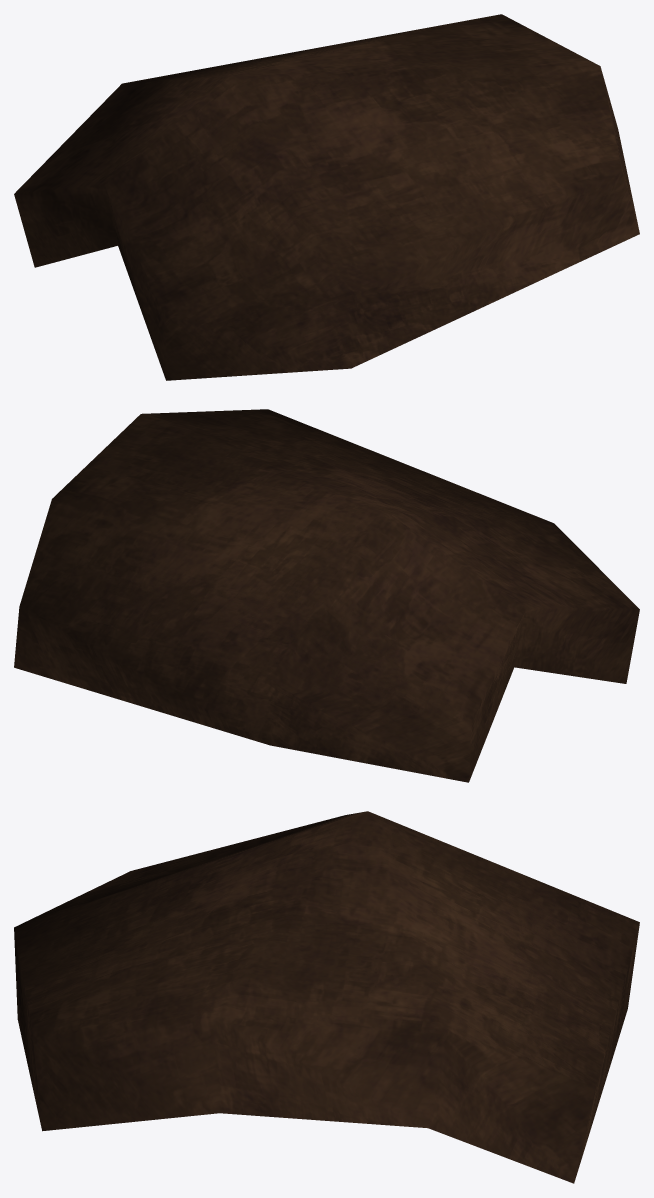
Rendered from Chr_HandLeft_Female_16_Drop.fbx.
3 views of the same model, one above another, from view 1: azimuth 30°, elevation 25°; view 2: azimuth 150°, elevation 25°; view 3: azimuth 270°, elevation 25° (orthographic). The views are drawn at different scales.
Parts seen in each view (by area): view 1: Chr_HandLeft_Female_16; view 2: Chr_HandLeft_Female_16; view 3: Chr_HandLeft_Female_16.
Part boxes in pixels (x1,y1,x2,y2): Chr_HandLeft_Female_16: [14, 14, 639, 380]; Chr_HandLeft_Female_16: [14, 409, 639, 782]; Chr_HandLeft_Female_16: [14, 811, 639, 1183].
Bounding box in the file's own units: 945 × 370 × 859.
